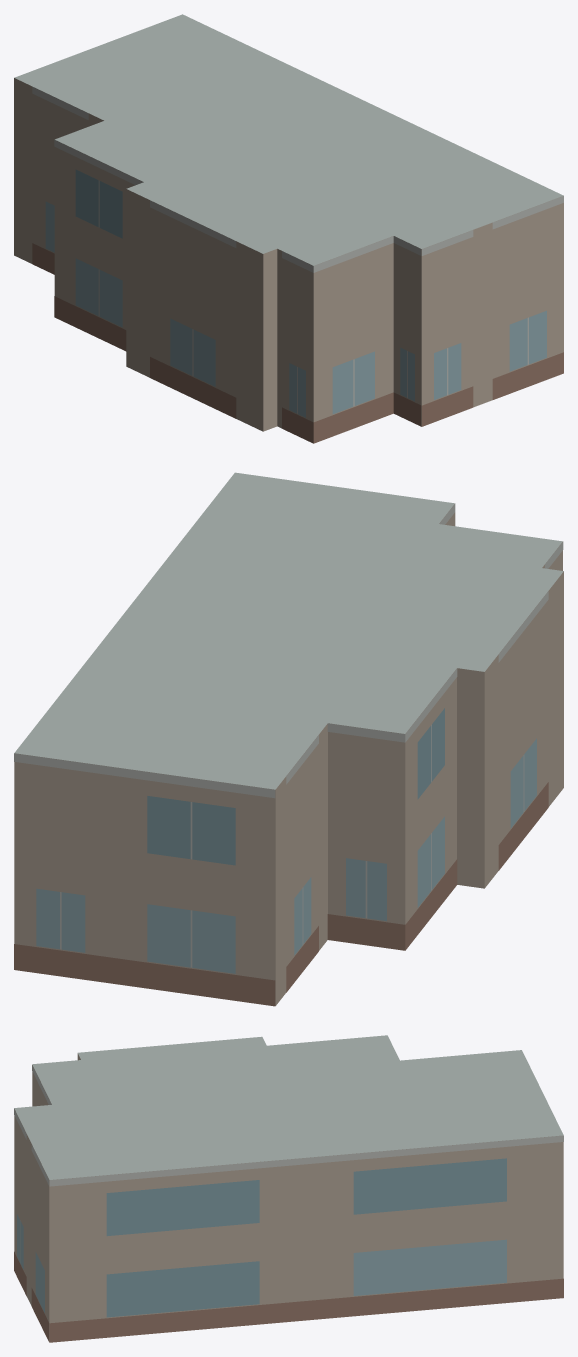
The model's file is survey-upis-33015447.glb.
3 views of the same model, one above another, from view 1: azimuth 30°, elevation 25°; view 2: azimuth 150°, elevation 25°; view 3: azimuth 270°, elevation 25° (orthographic). The views are drawn at different scales.
Visible parts, largest first — view 1: survey-upis-33015447.tmp; view 2: survey-upis-33015447.tmp; view 3: survey-upis-33015447.tmp.
Boxes of the visible parts, left/top/right/bottom form: survey-upis-33015447.tmp: left=14, top=14, right=563, bottom=443; survey-upis-33015447.tmp: left=14, top=472, right=563, bottom=1006; survey-upis-33015447.tmp: left=14, top=1035, right=563, bottom=1342.
Size of the model in its own units: 11.67 by 6.1 by 18.7.
